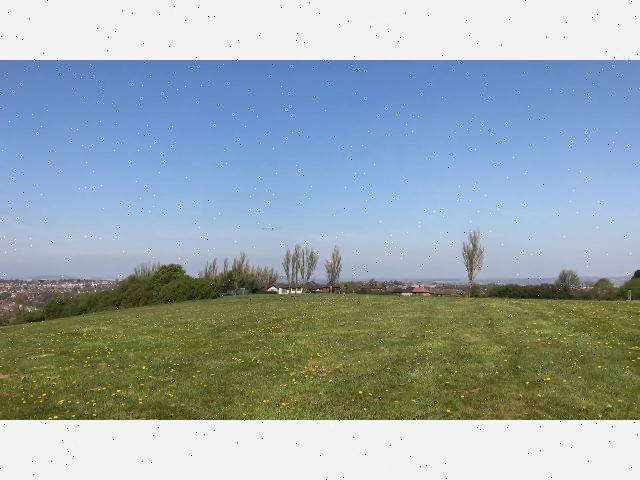Anti-Drone: (255, 214, 287, 234)
